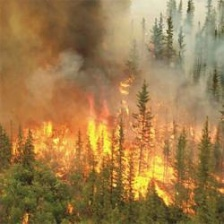fire: (31, 100, 200, 209)
smoke: (1, 1, 136, 94)
